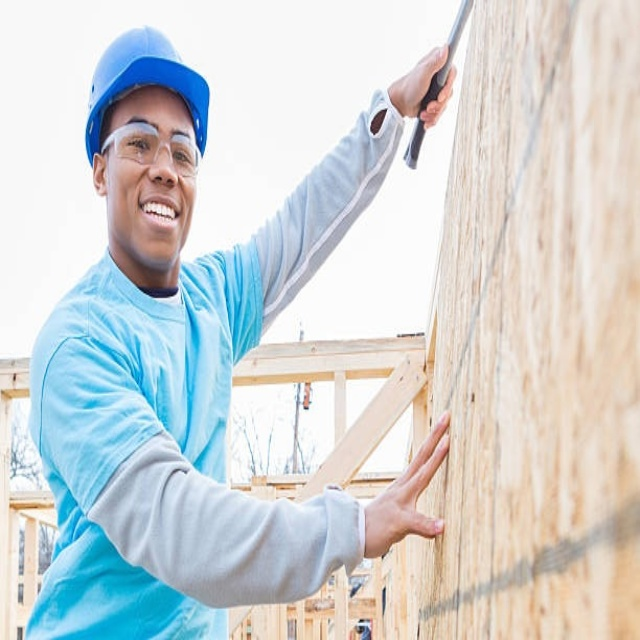Gafas: (102, 123, 203, 178)
Sin_guantes: (368, 402, 457, 560), (386, 39, 461, 133)
Sin_mascara: (131, 188, 182, 251)
